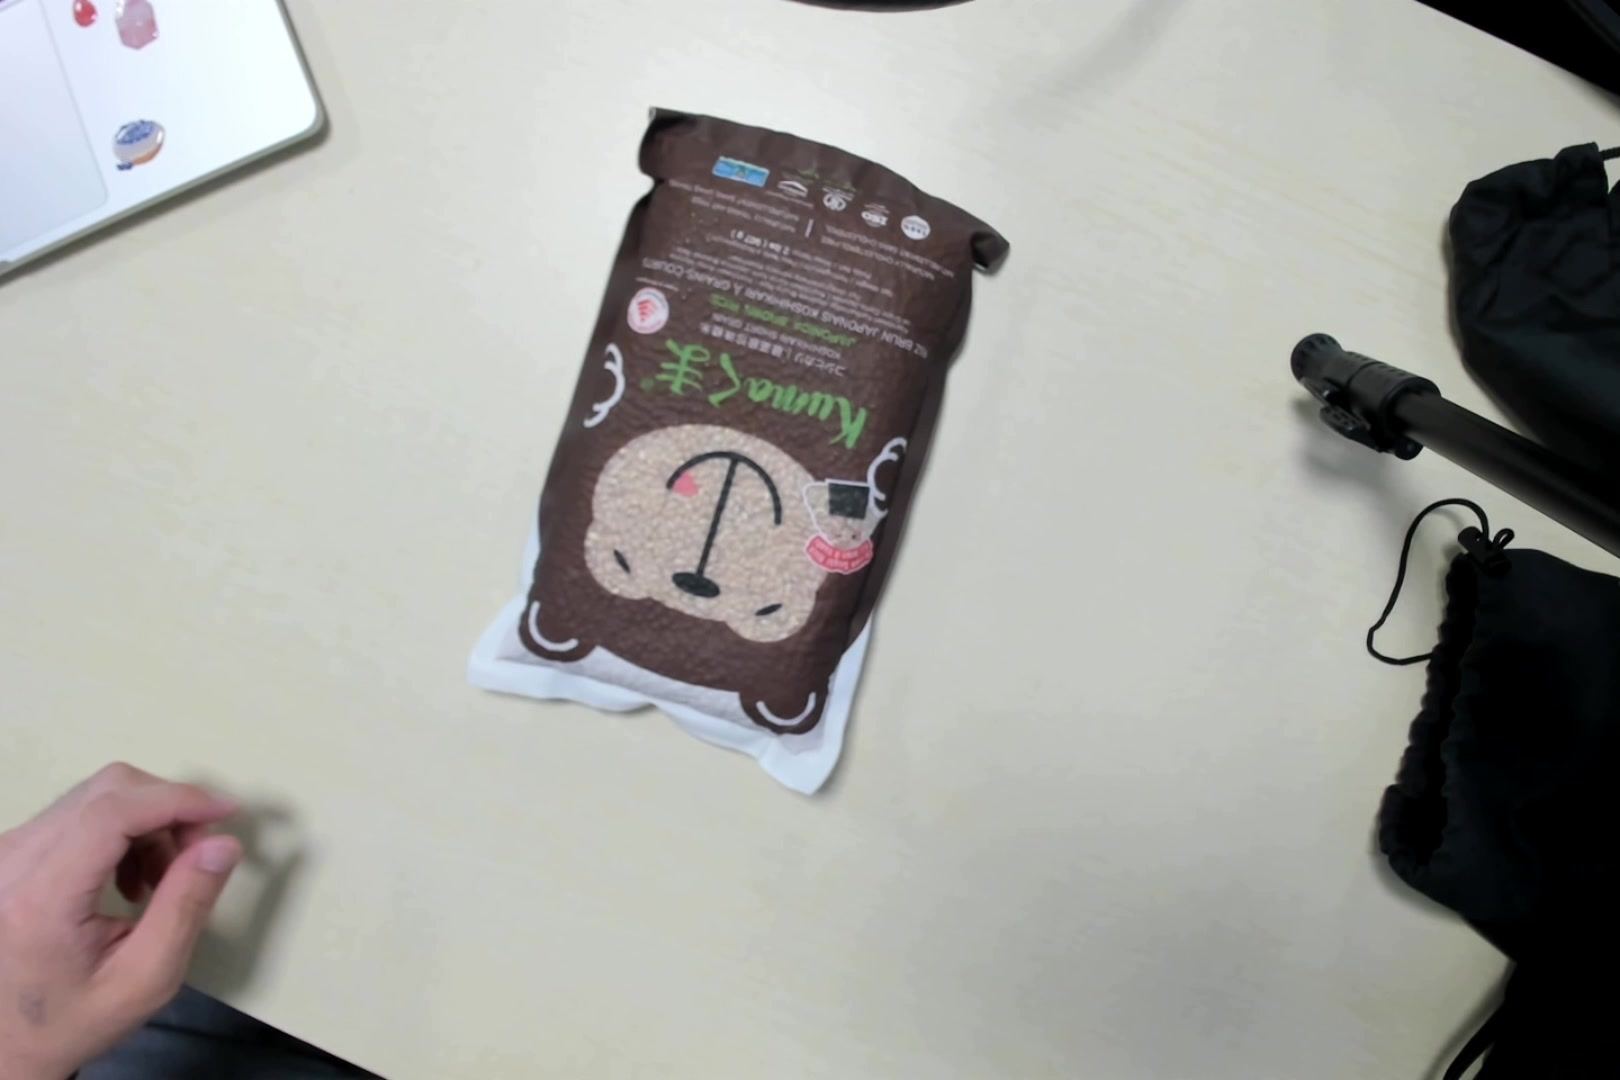Rice(BrownOthers)_500-599g_NonHalal_Healthy: (539, 110, 993, 757)
